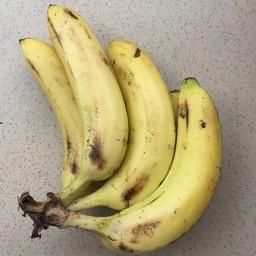Banana Ripe: (66, 63, 224, 256), (91, 18, 175, 224), (45, 5, 132, 203), (11, 23, 91, 203)
